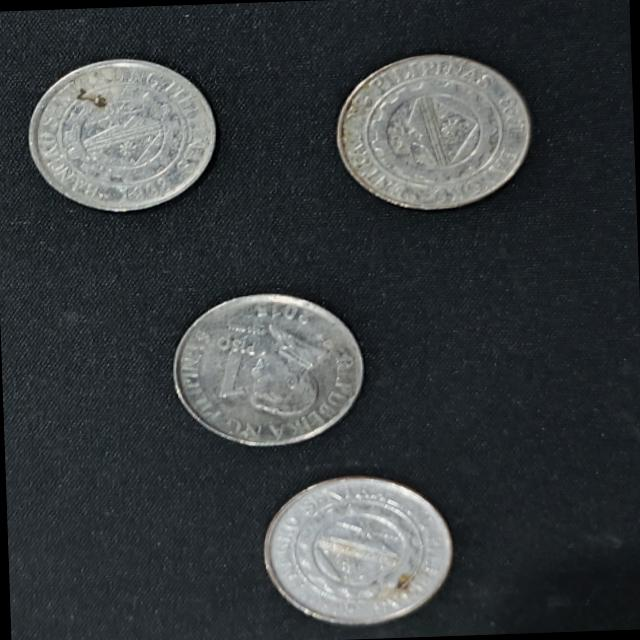1_peso: (337, 55, 529, 208), (174, 294, 361, 445), (30, 58, 214, 210), (264, 477, 450, 623)
